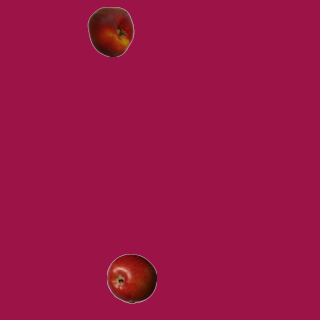Apple Braeburn: (106, 253, 156, 303)
Nectarine Flat: (85, 6, 135, 56)
